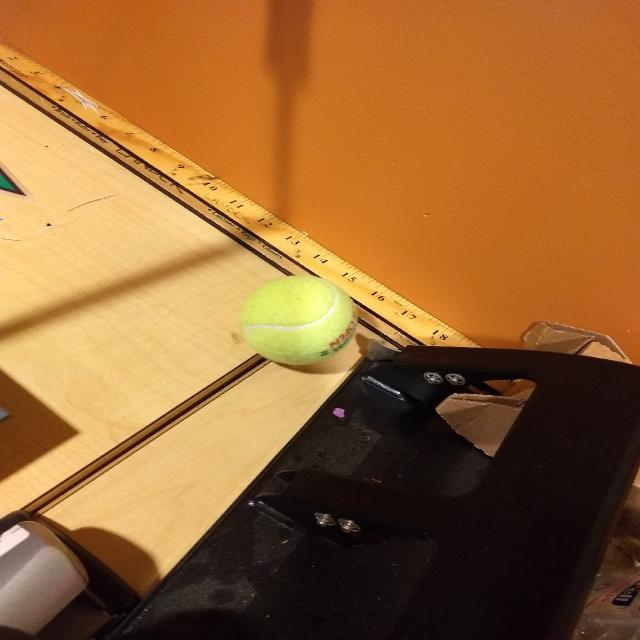Tennis-Ball: (240, 275, 356, 366)
